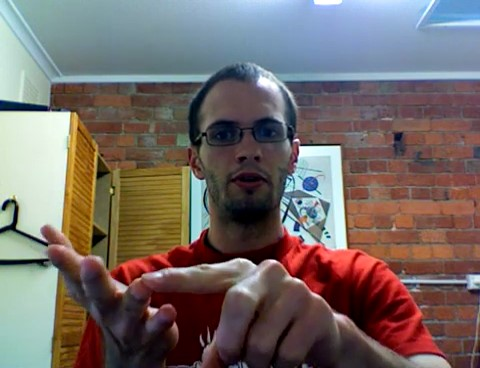O: (31, 217, 347, 364)
